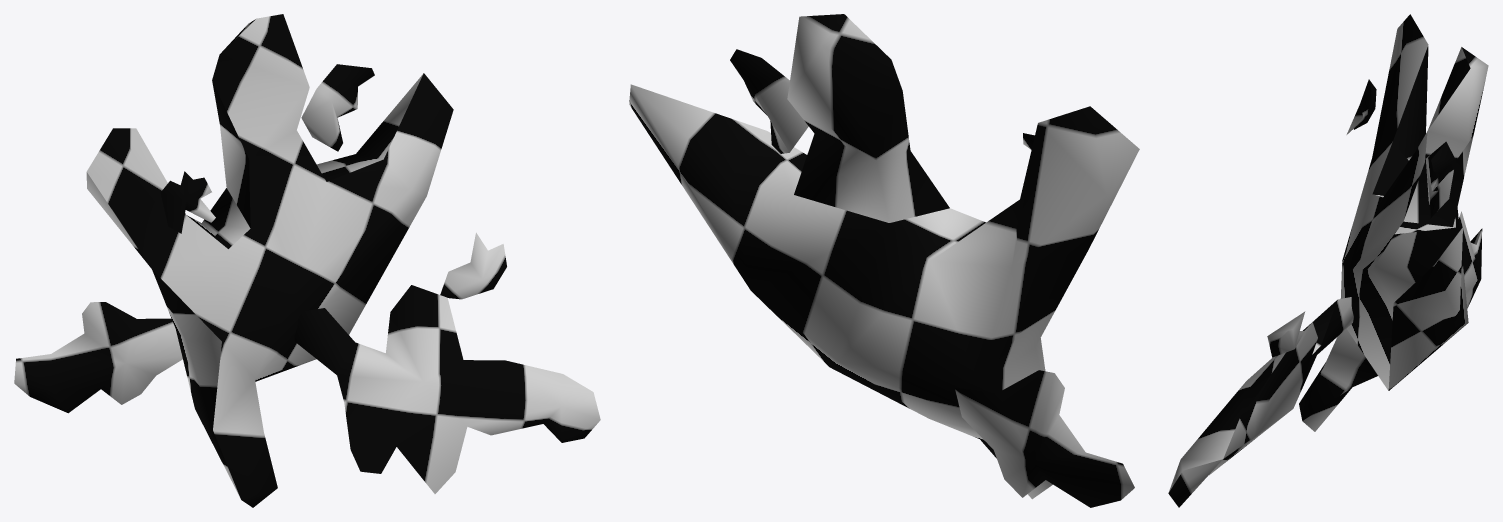
The model's file is asset-mmo-asteroid-b.obj.
3 views of the same model, side by side, from view 1: azimuth 30°, elevation 25°; view 2: azimuth 150°, elevation 25°; view 3: azimuth 270°, elevation 25° (orthographic). The views are drawn at different scales.
Visible parts, largest first — view 1: asset_mmo_asteroid_b; view 2: asset_mmo_asteroid_b; view 3: asset_mmo_asteroid_b.
Part boxes in pixels (<box>): asset_mmo_asteroid_b: <box>14,14,600,507</box>; asset_mmo_asteroid_b: <box>629,14,1139,507</box>; asset_mmo_asteroid_b: <box>1168,14,1488,507</box>.
Bounding box in the file's own units: 401 × 368 × 253.
Materials: 1 (1 with a texture image).
